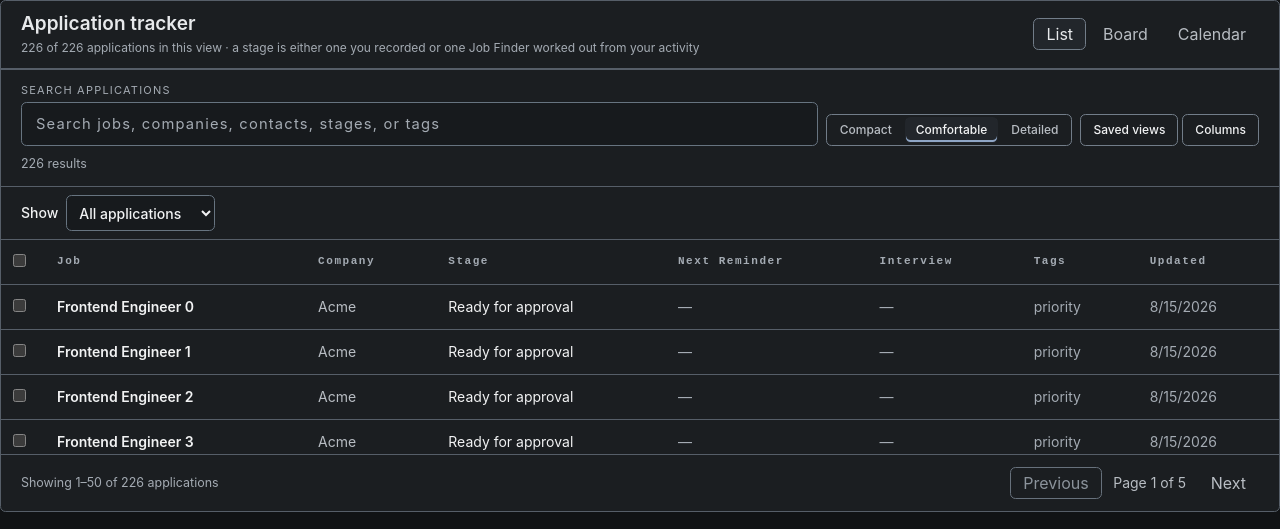
it: ApplicationsCrmViews › bounds the table DOM and names matching select-all semantics
The image size is (1280, 529).
Expected: the navigation bar named "applications pagination" is shown, [1,454,1279,511]
Expected: the text "Showing 1–50 of 226 applications" is shown, [21,474,219,492]
Click the button with aria-label "Next page". click: [1228, 483]
box: [1198,467,1259,499]
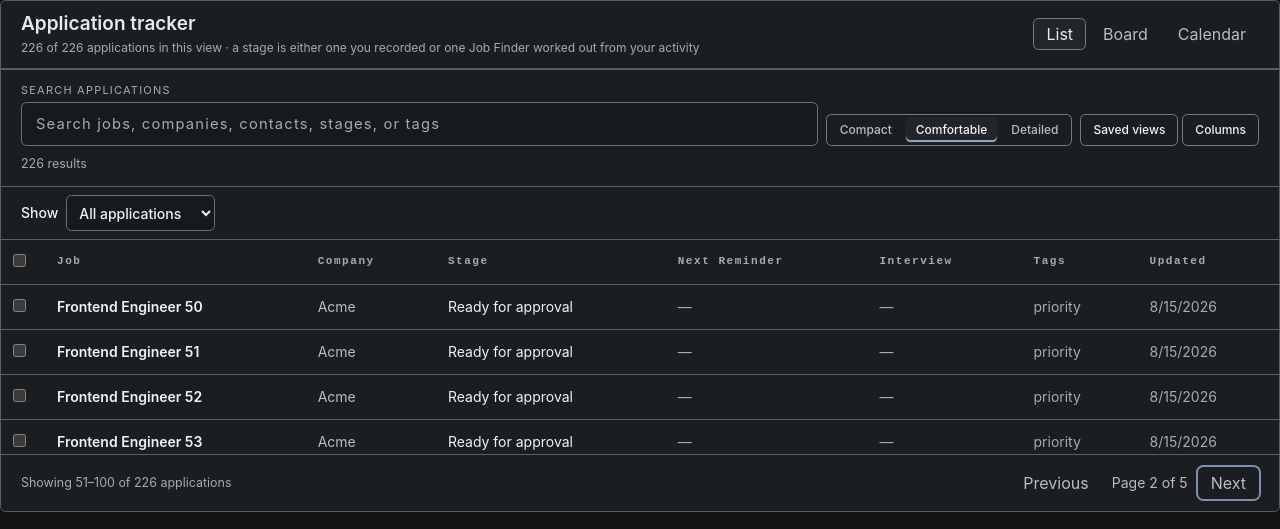
Result: the button "Frontend Engineer 50" is shown at [57,297,203,317]
Result: the button "Frontend Engineer 0" is gone
Click the checkbox named "Select all matching applications". click: [20, 261]
box: [13,254,26,267]
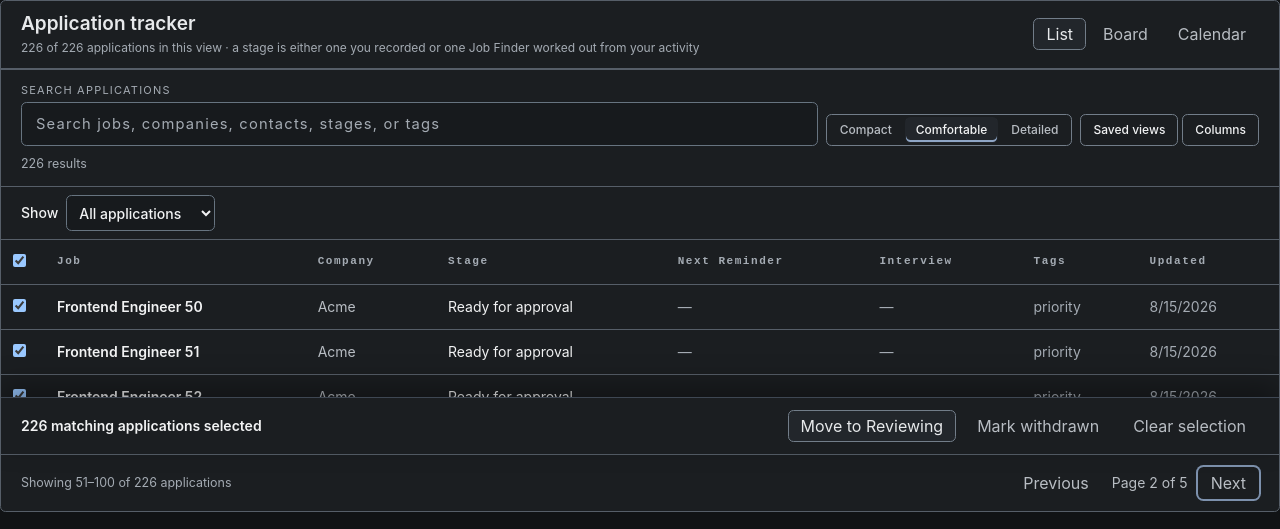
Result: the text "226 matching applications selected" is shown at [21,416,262,436]
